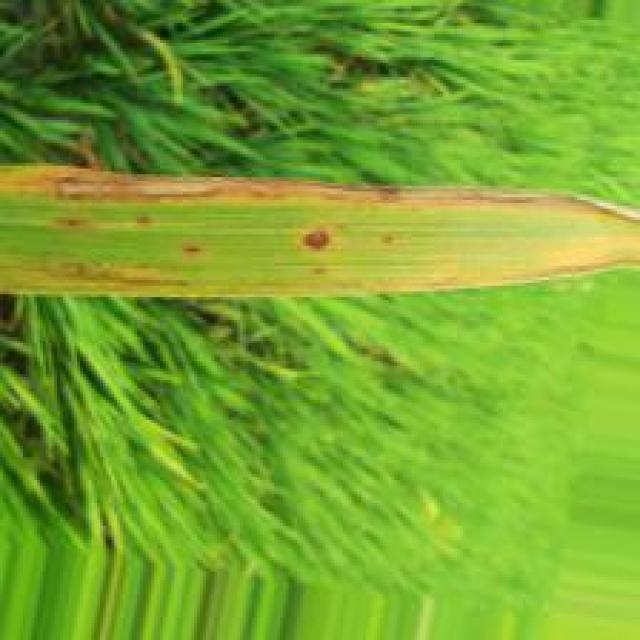Leaf_Blast: (48, 167, 638, 227)
